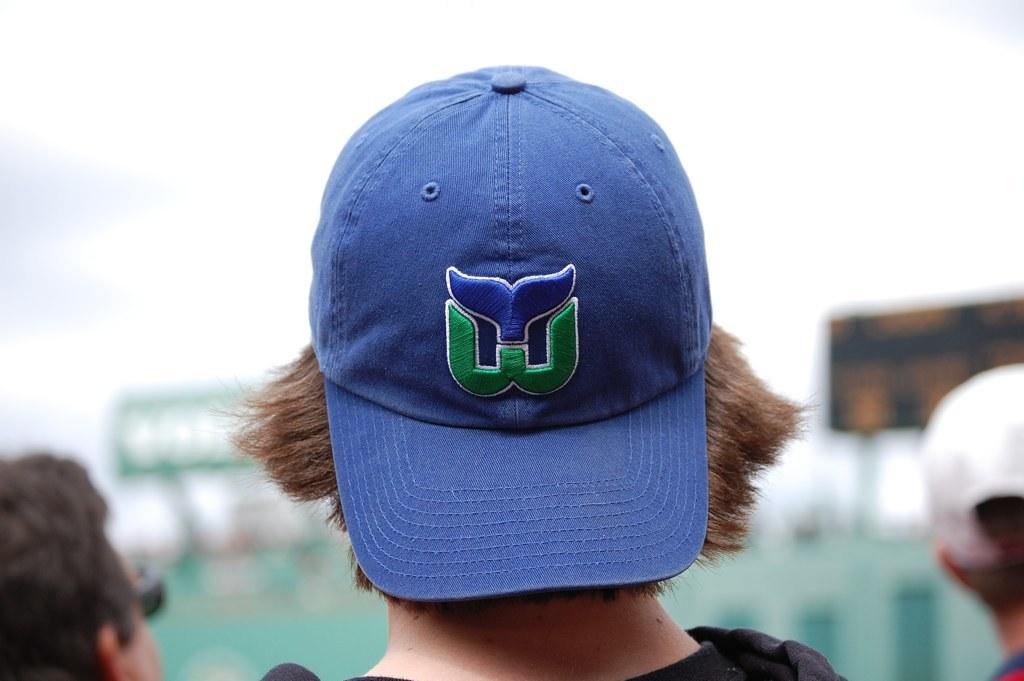Hat: (306, 64, 706, 600)
